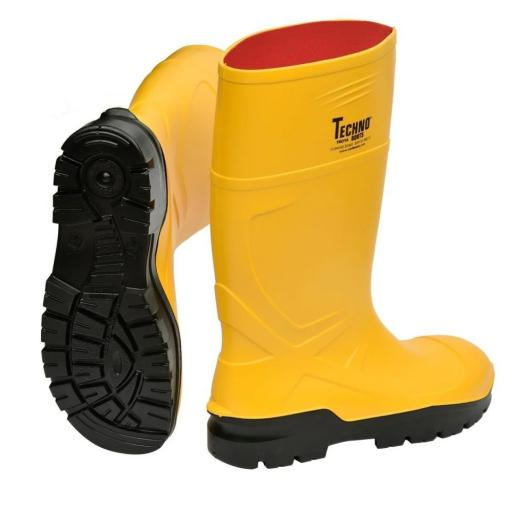safety_boots: (212, 0, 512, 477), (9, 115, 205, 461)
